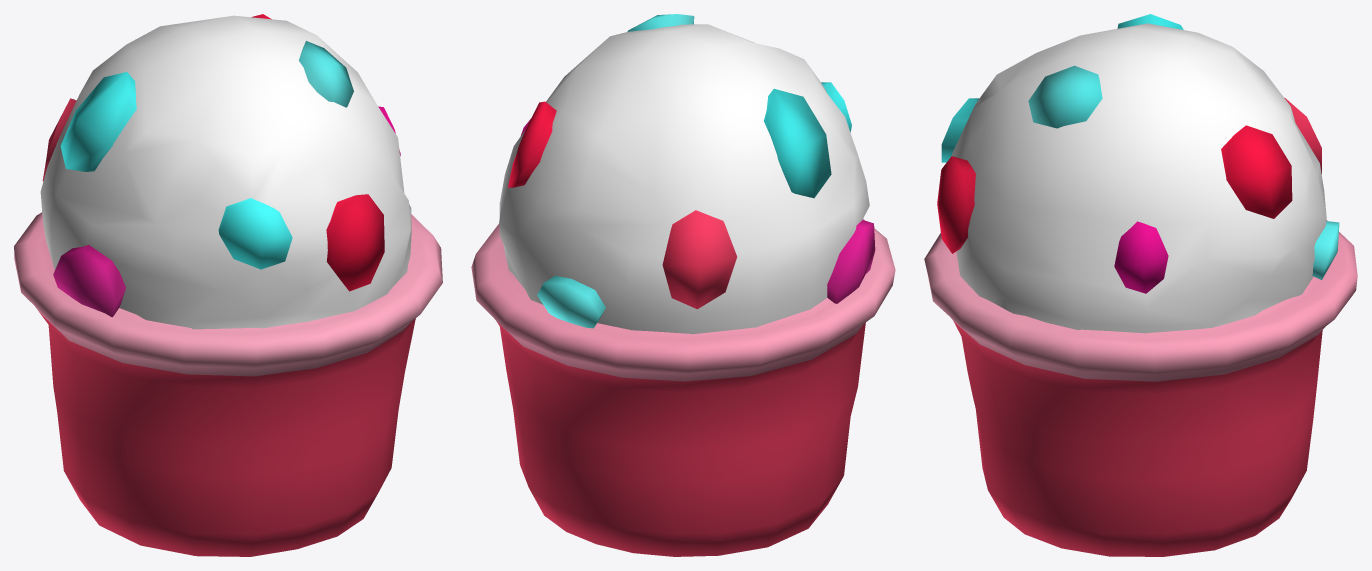
The model's file is IceCream_0001_0017.fbx.
3 renders of one model, left to right at view 1: azimuth 30°, elevation 25°; view 2: azimuth 150°, elevation 25°; view 3: azimuth 270°, elevation 25°, orthographic.
Visible parts, largest first — view 1: Ice_0001_0017; view 2: Ice_0001_0017; view 3: Ice_0001_0017.
Boxes of the visible parts, x1,y1,x2,y2 form: Ice_0001_0017: [14, 14, 442, 556]; Ice_0001_0017: [471, 14, 895, 556]; Ice_0001_0017: [924, 14, 1357, 556].
Size of the model in its own units: 0.0713 by 0.0857 by 0.073.
Materials: 1 (1 with a texture image).
